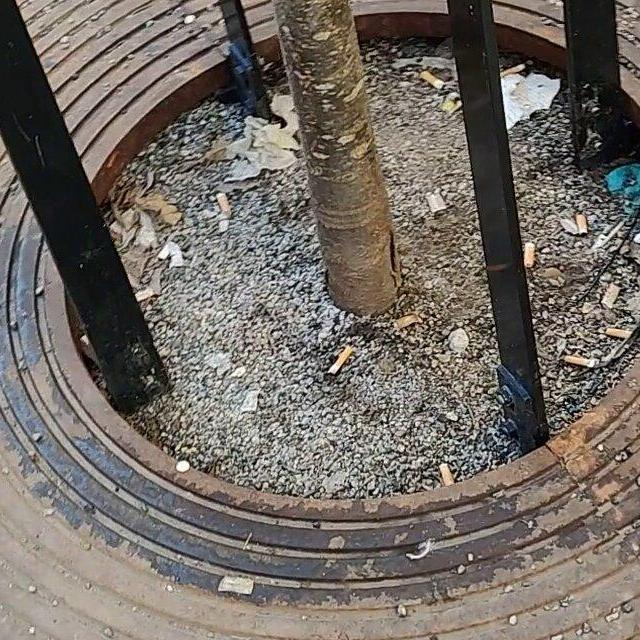Cigarette Butt: (327, 343, 353, 383), (417, 73, 452, 98), (434, 458, 457, 488), (562, 353, 600, 370), (602, 321, 631, 343), (393, 313, 420, 335), (573, 214, 593, 238), (215, 188, 232, 216), (599, 285, 618, 308), (503, 65, 533, 77), (527, 247, 540, 270)
